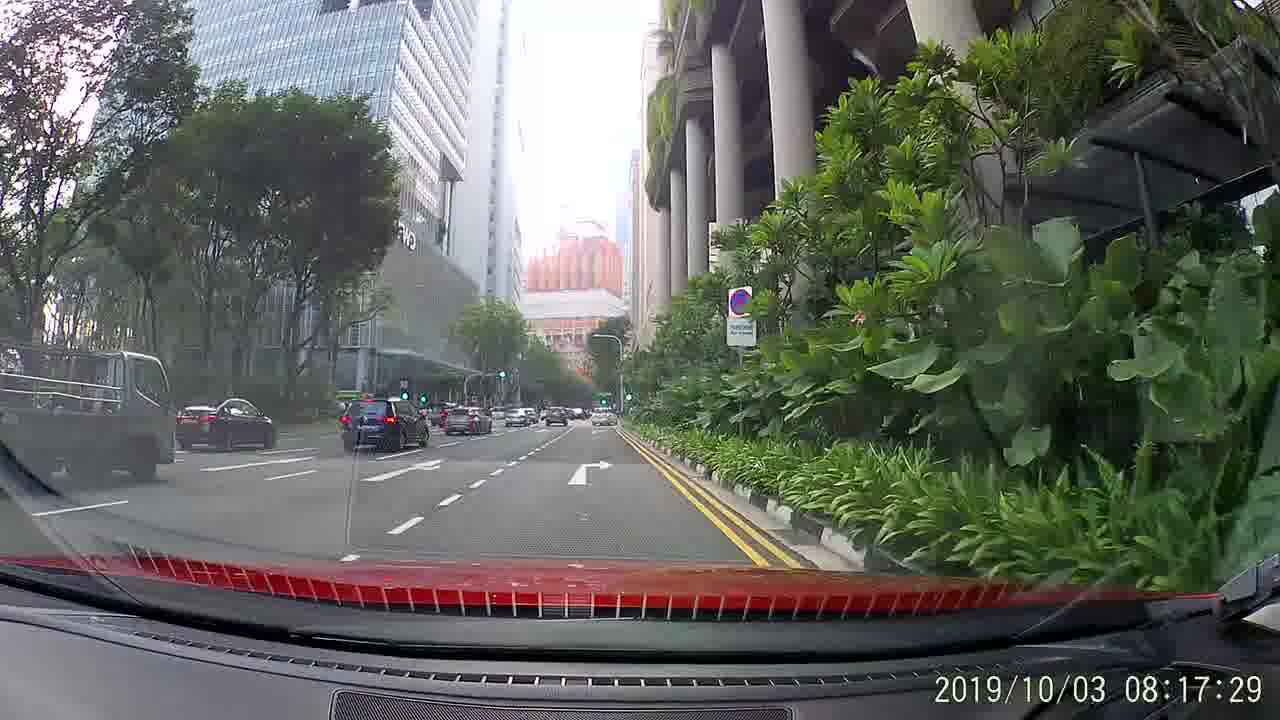car: (173, 393, 279, 453), (339, 394, 432, 453), (440, 402, 494, 438), (502, 405, 534, 431), (543, 405, 571, 428), (589, 407, 613, 426)
